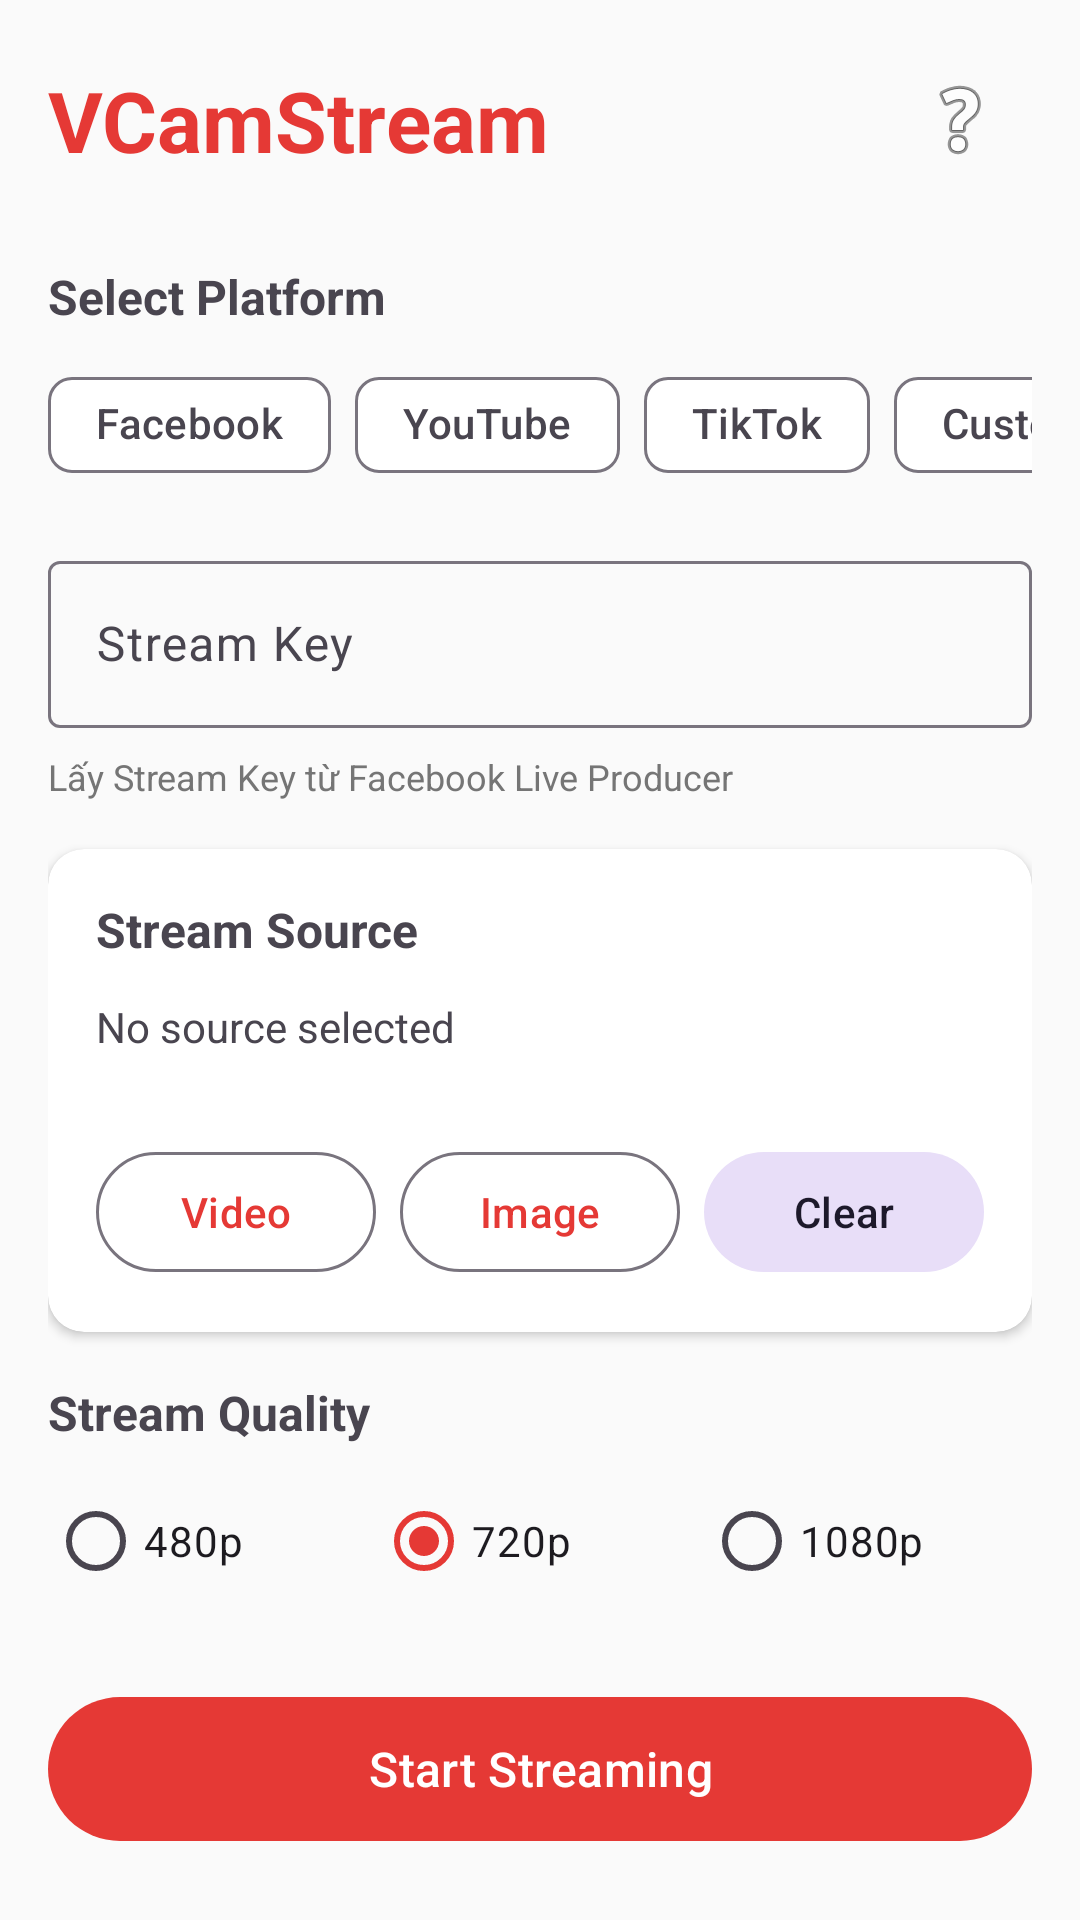

Named icons in this screenshot (1080px×1920px) and their bounding boxes, (x1, y1, x2, y2):
Help: (939, 86, 981, 154)
